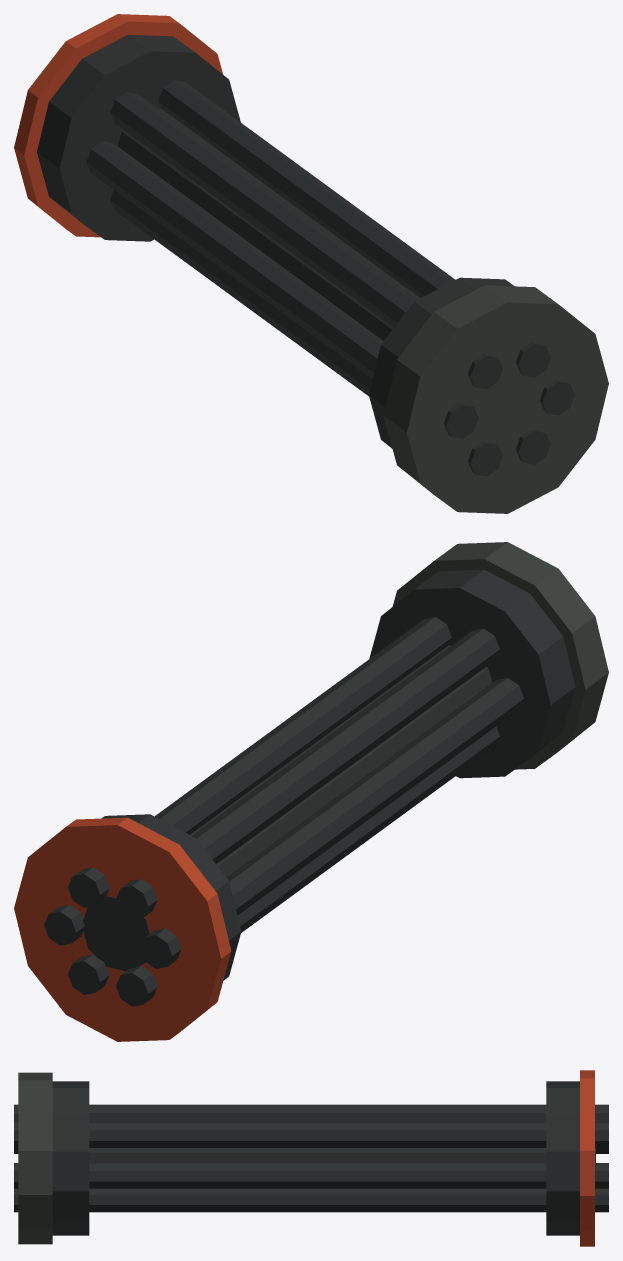
File: Bastion_MT12_MinigunBarrels.obj
The picture shows the model from 3 angles, top to bottom: view 1: azimuth 30°, elevation 25°; view 2: azimuth 150°, elevation 25°; view 3: azimuth 270°, elevation 25°; orthographic projection. The views are drawn at different scales.
Visible parts, largest first — view 1: Bastion_MT12_MinigunBarrels; view 2: Bastion_MT12_MinigunBarrels; view 3: Bastion_MT12_MinigunBarrels.
Part boxes in pixels (left/top/right/bottom): Bastion_MT12_MinigunBarrels: left=14, top=14, right=608, bottom=513; Bastion_MT12_MinigunBarrels: left=14, top=542, right=608, bottom=1041; Bastion_MT12_MinigunBarrels: left=14, top=1070, right=608, bottom=1246.
Size of the model in its own units: 0.41 by 0.41 by 1.38.
Materials: 1 (1 with a texture image).
